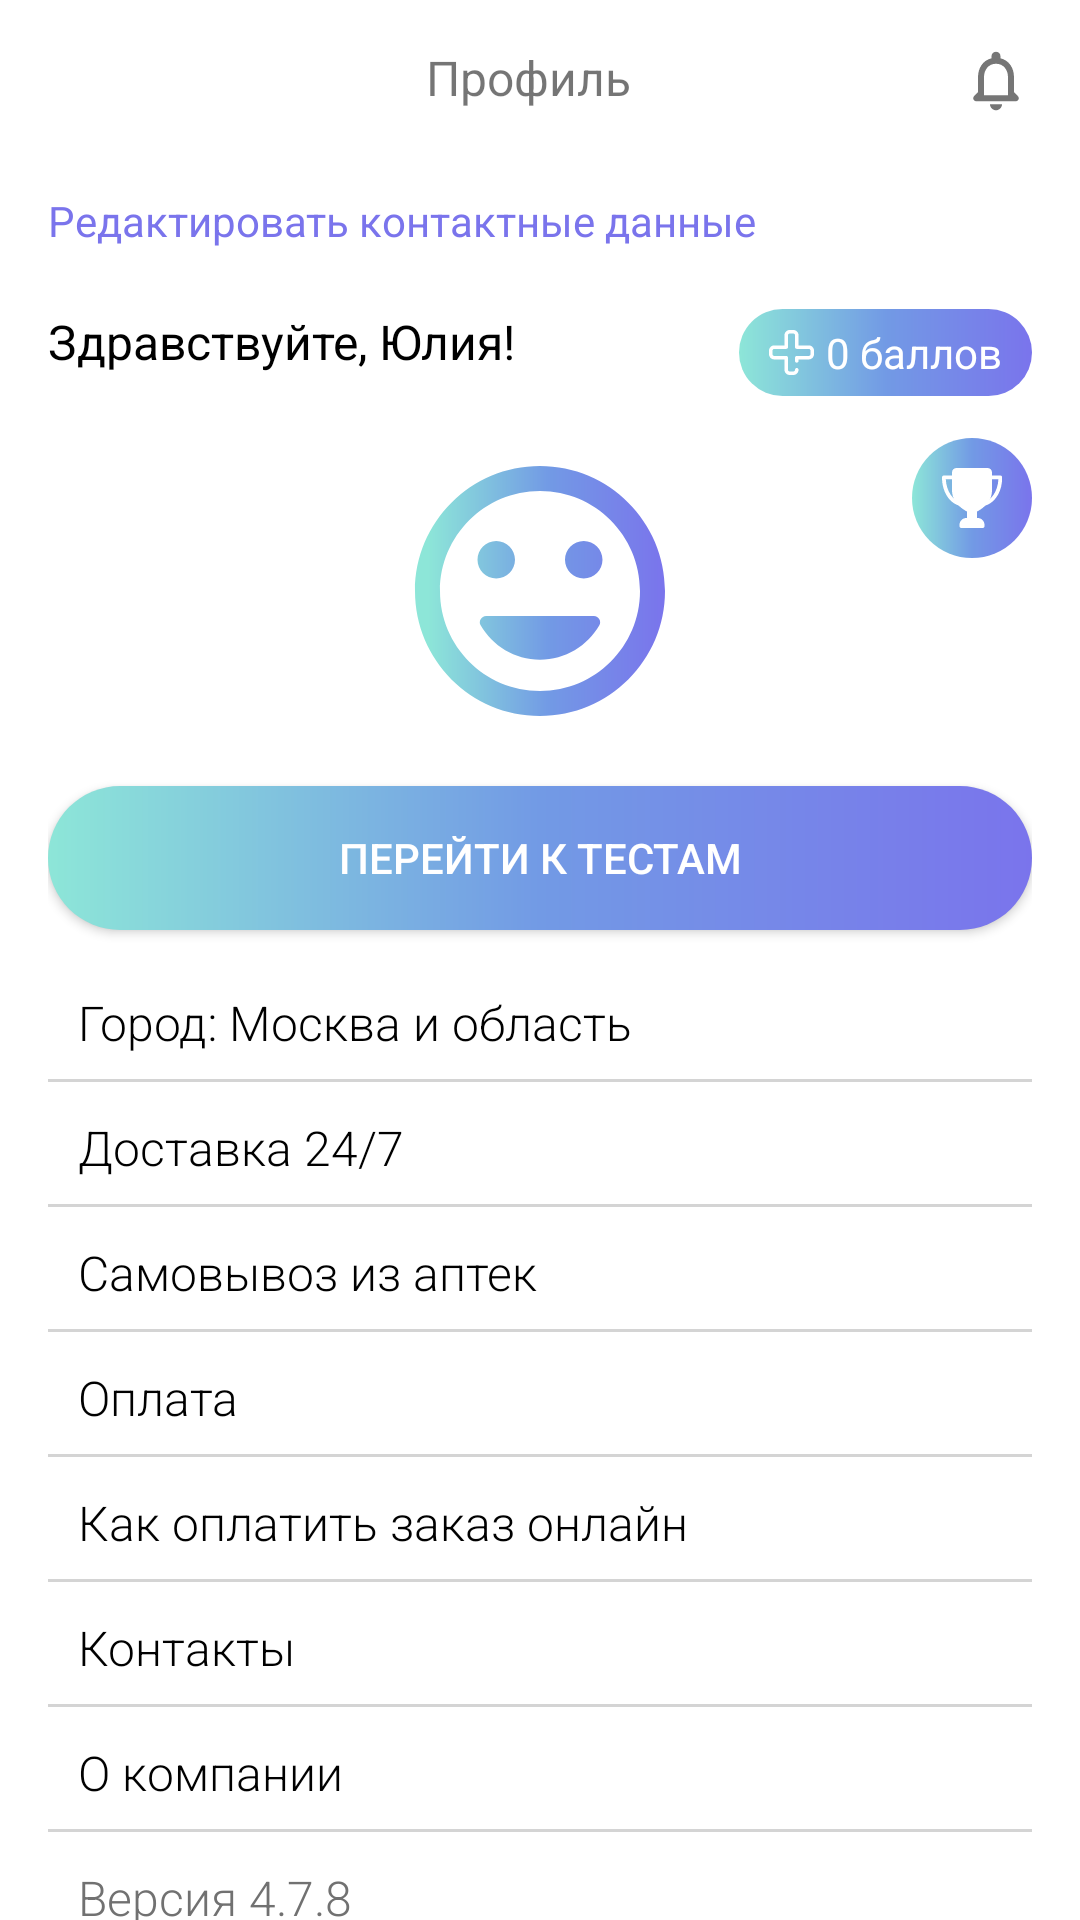

Locate icon controls on the screen. Image size 1080px x 1920px, boxes as {"left": x1, "top": y1, "right": x2, "bottom": y2}.
mood: {"left": 415, "top": 466, "right": 665, "bottom": 716}
Notification icon: {"left": 973, "top": 52, "right": 1019, "bottom": 111}
trophy: {"left": 912, "top": 438, "right": 1032, "bottom": 558}
